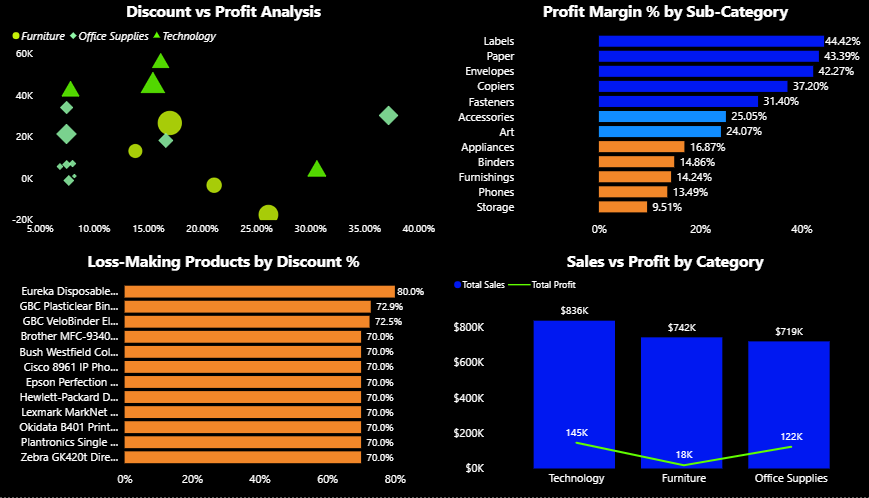

Layout of this report page (visuals, bound fields, positions):
{"tool":"powerbi","page":{"name":"Profitability and Discount Analysis","canvas":[1280,720],"ordinal":2},"visuals":[{"type":"scatterChart","title":"Discount vs Profit Analysis","fields":{"Category":["Superstore Sales.Sub-Category"],"Series":["Superstore Sales.Category"],"Size":["Superstore Sales.Total Sales"],"X":["Superstore Sales.Average Discount %"],"Y":["Superstore Sales.Total Profit"]},"box":[16,0,624,352],"z":0},{"type":"clusteredBarChart","title":"Profit Margin % by Sub-Category","fields":{"Category":["Superstore Sales.Sub-Category"],"Y":["Superstore Sales.Profit Margin%"]},"box":[656,0,624,352],"z":1000},{"type":"clusteredBarChart","title":"Loss-Making Products by Discount %","fields":{"Category":["Superstore Sales.Product Name"],"Y":["Superstore Sales.Average Discount %"]},"box":[16,362,624,352],"z":2000},{"type":"lineClusteredColumnComboChart","title":"Sales vs Profit by Category","fields":{"Category":["Superstore Sales.Category"],"Y":["Superstore Sales.Total Sales"],"Y2":["Superstore Sales.Total Profit"]},"box":[656,362,624,352],"z":3000}]}

Visuals, with their boxes in screenshot pixels (x1, y1, x2, y2), scaled from the page's 1280x720 canvas onto the 869x498 screenshot:
"Discount vs Profit Analysis" scatterChart: locate(11, 0, 434, 243)
"Profit Margin % by Sub-Category" clusteredBarChart: locate(445, 0, 868, 243)
"Loss-Making Products by Discount %" clusteredBarChart: locate(11, 250, 434, 494)
"Sales vs Profit by Category" lineClusteredColumnComboChart: locate(445, 250, 868, 494)
